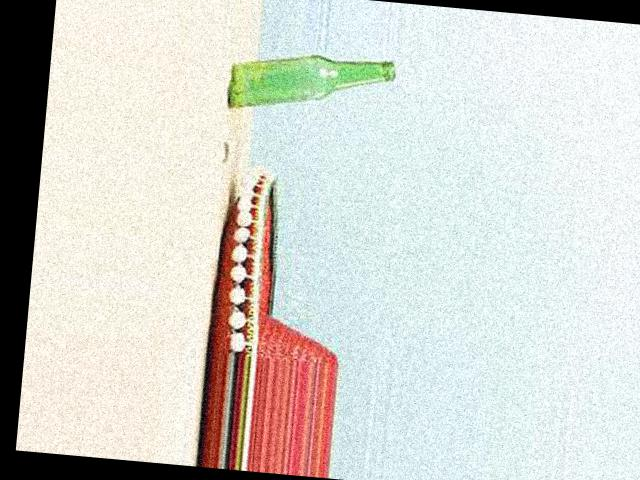beer: (222, 48, 397, 123)
